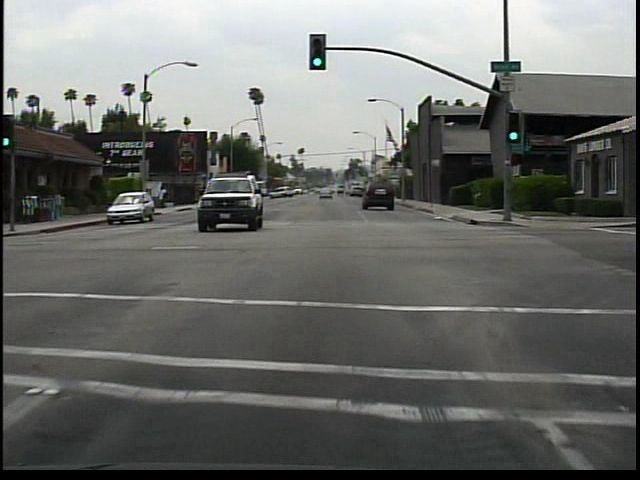person: (159, 183, 170, 211)
